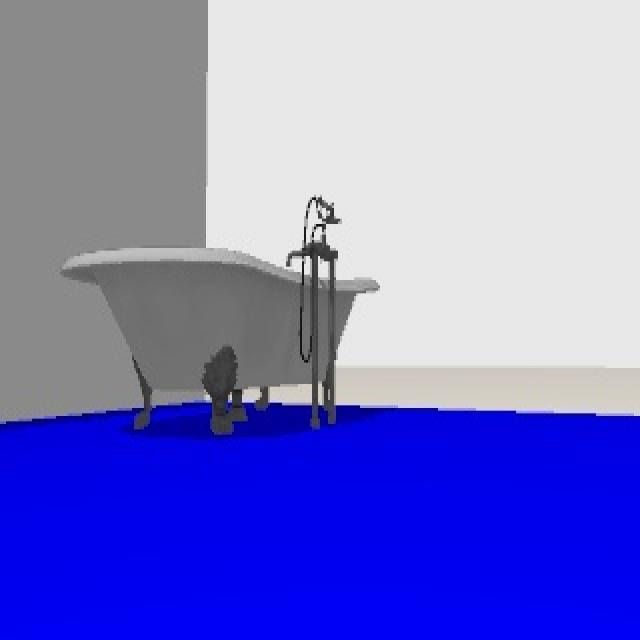bathtub: (61, 204, 379, 438)
